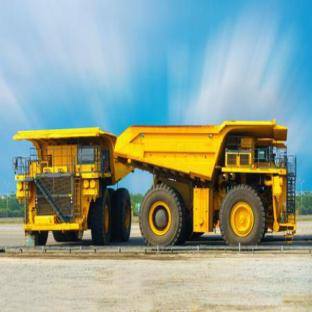Vehicle: (129, 115, 297, 243), (11, 120, 118, 244)
